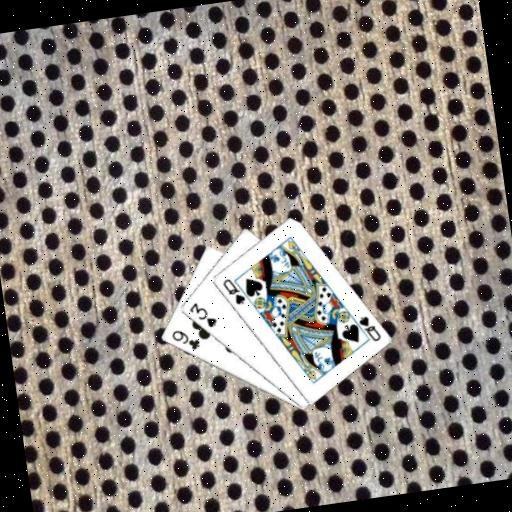3S: (185, 297, 219, 332)
9C: (167, 324, 202, 355)
QS: (219, 274, 247, 309), (355, 311, 383, 345)
